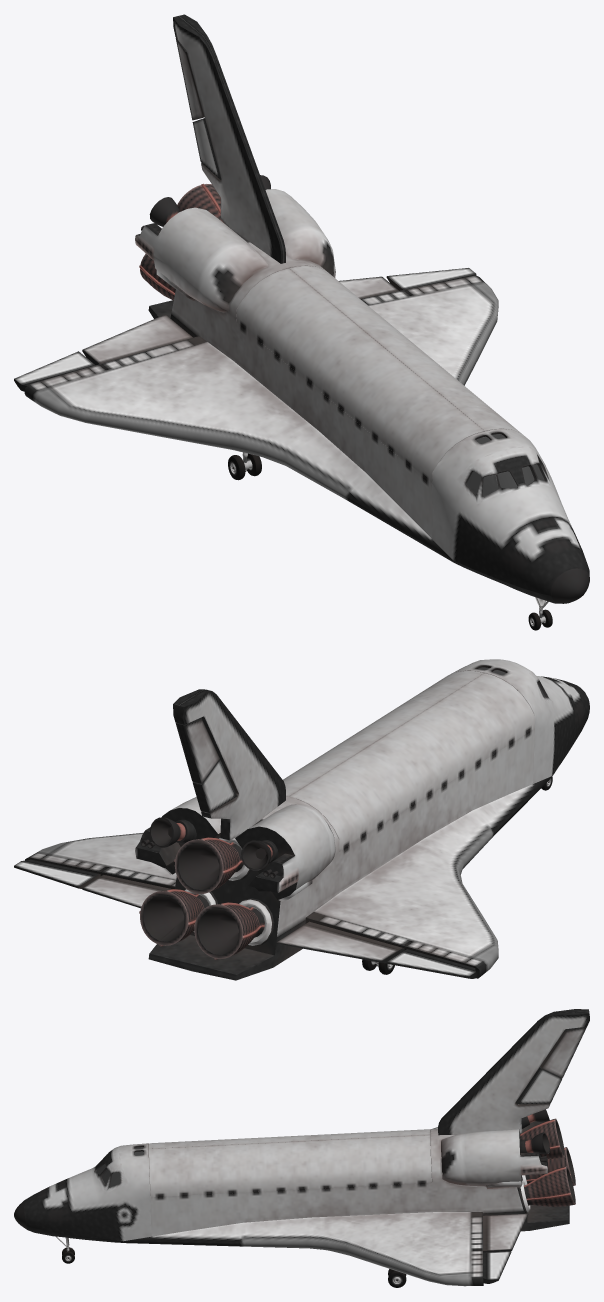
Rendered from Shuttle_min.glb.
The picture shows the model from 3 angles, top to bottom: view 1: azimuth 30°, elevation 25°; view 2: azimuth 150°, elevation 25°; view 3: azimuth 270°, elevation 25°; orthographic projection. The views are drawn at different scales.
Parts seen in each view (by area): view 1: space_shuttle.1; view 2: space_shuttle.1; view 3: space_shuttle.1.
Boxes of the visible parts, <box> form: space_shuttle.1: <box>14,14,589,630</box>; space_shuttle.1: <box>14,659,589,980</box>; space_shuttle.1: <box>14,1009,589,1287</box>.
Size of the model in its own units: 0.6688 by 0.4883 by 1.02.
Materials: 1 (1 with a texture image).
